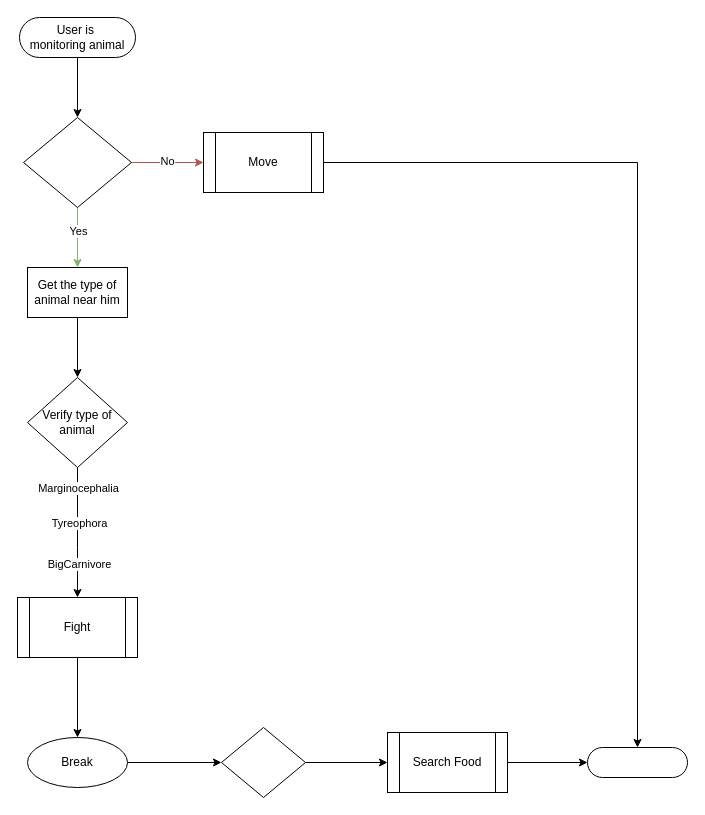
Image size: 705x815. Some labels were removed from this diagram. Here are the shapes that lost their labels. From the top down, the centre of each, then its label:
point (77, 162): The animal is near another
point (263, 762): Is Hungry?
point (637, 762): Log Interaction
